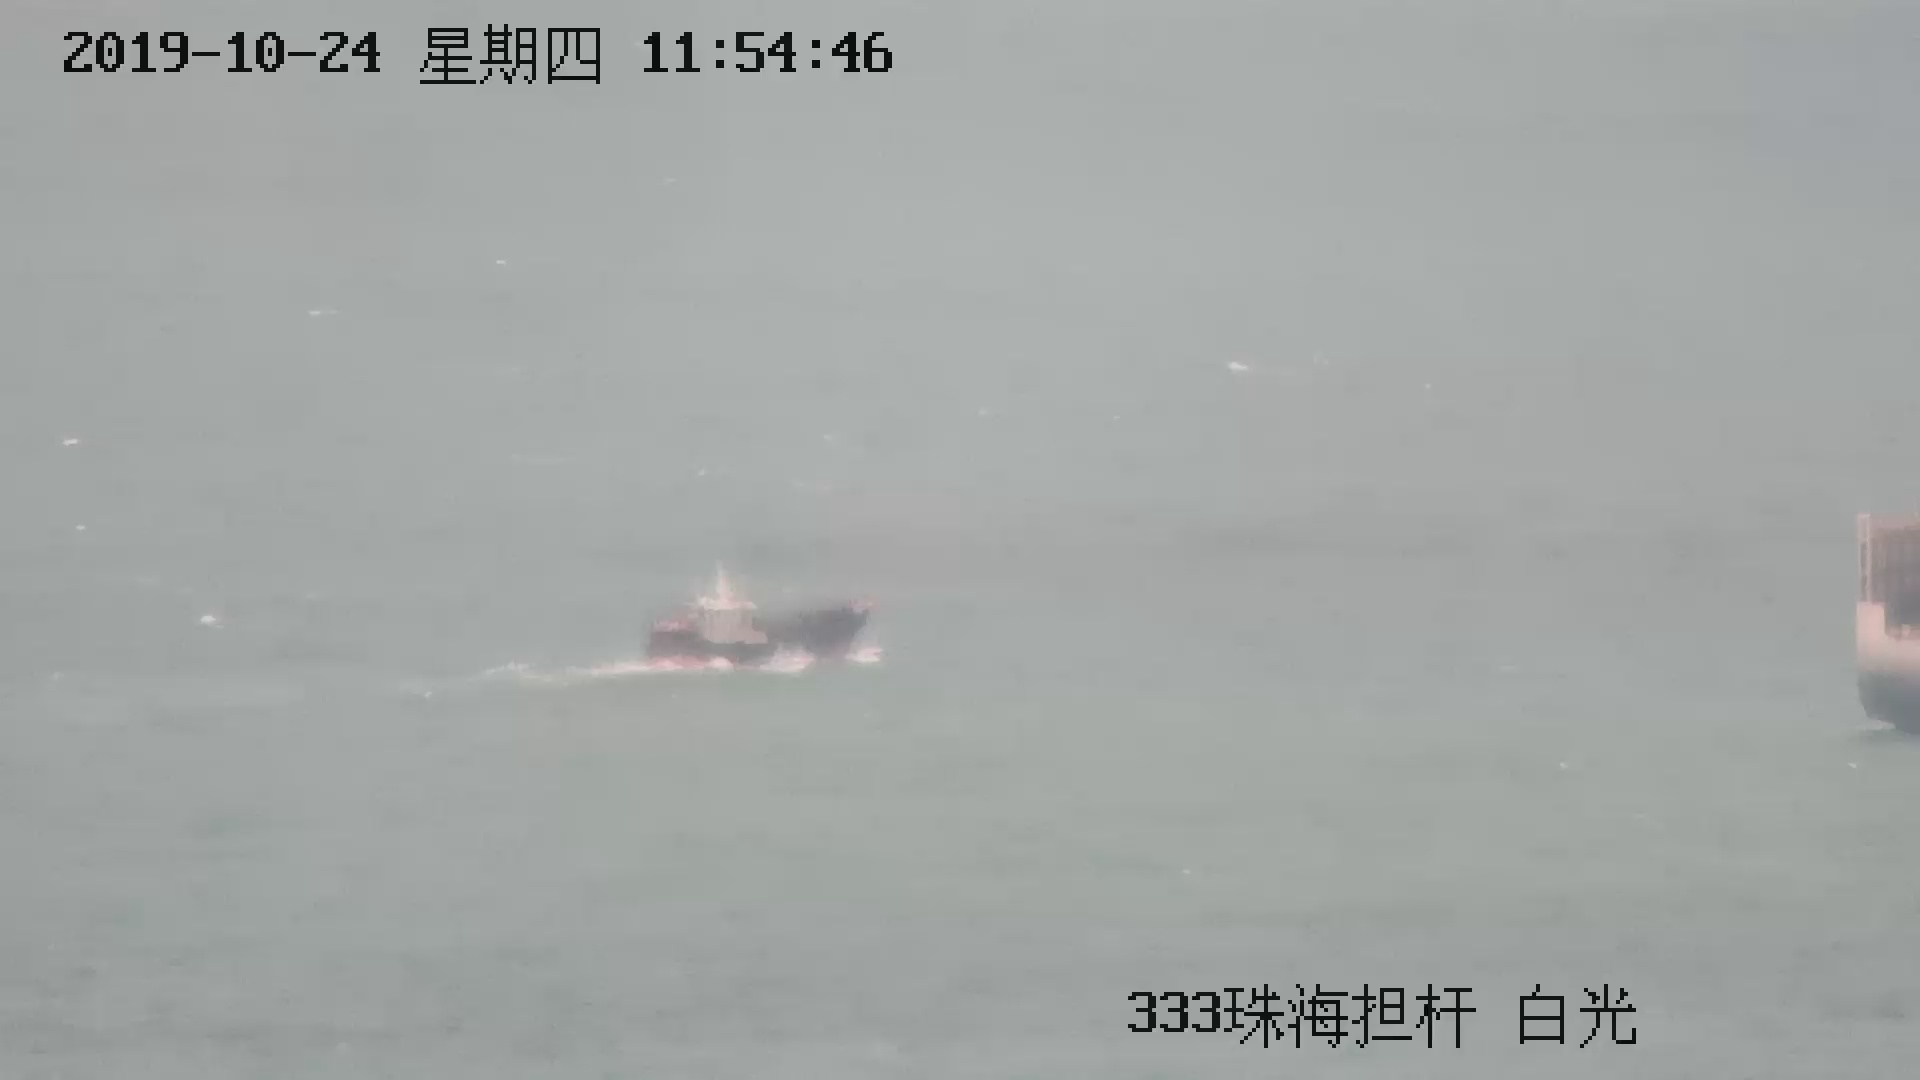ship: (640, 574, 880, 665)
